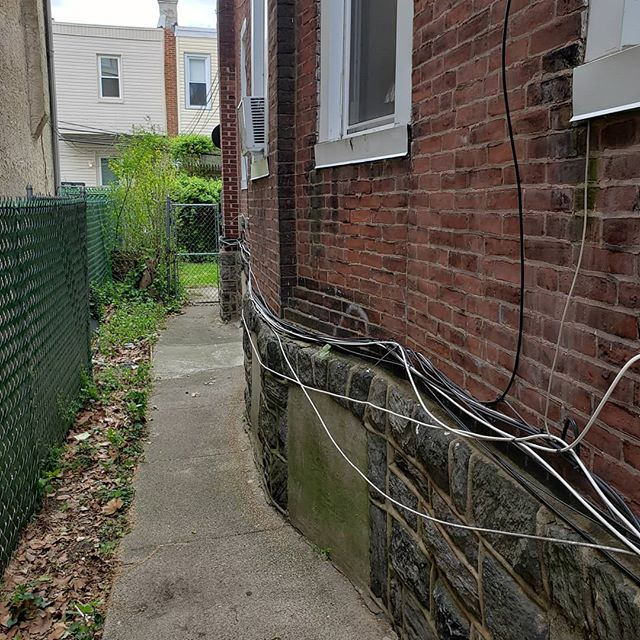building: (207, 1, 640, 640), (1, 8, 103, 605), (61, 13, 220, 258)
